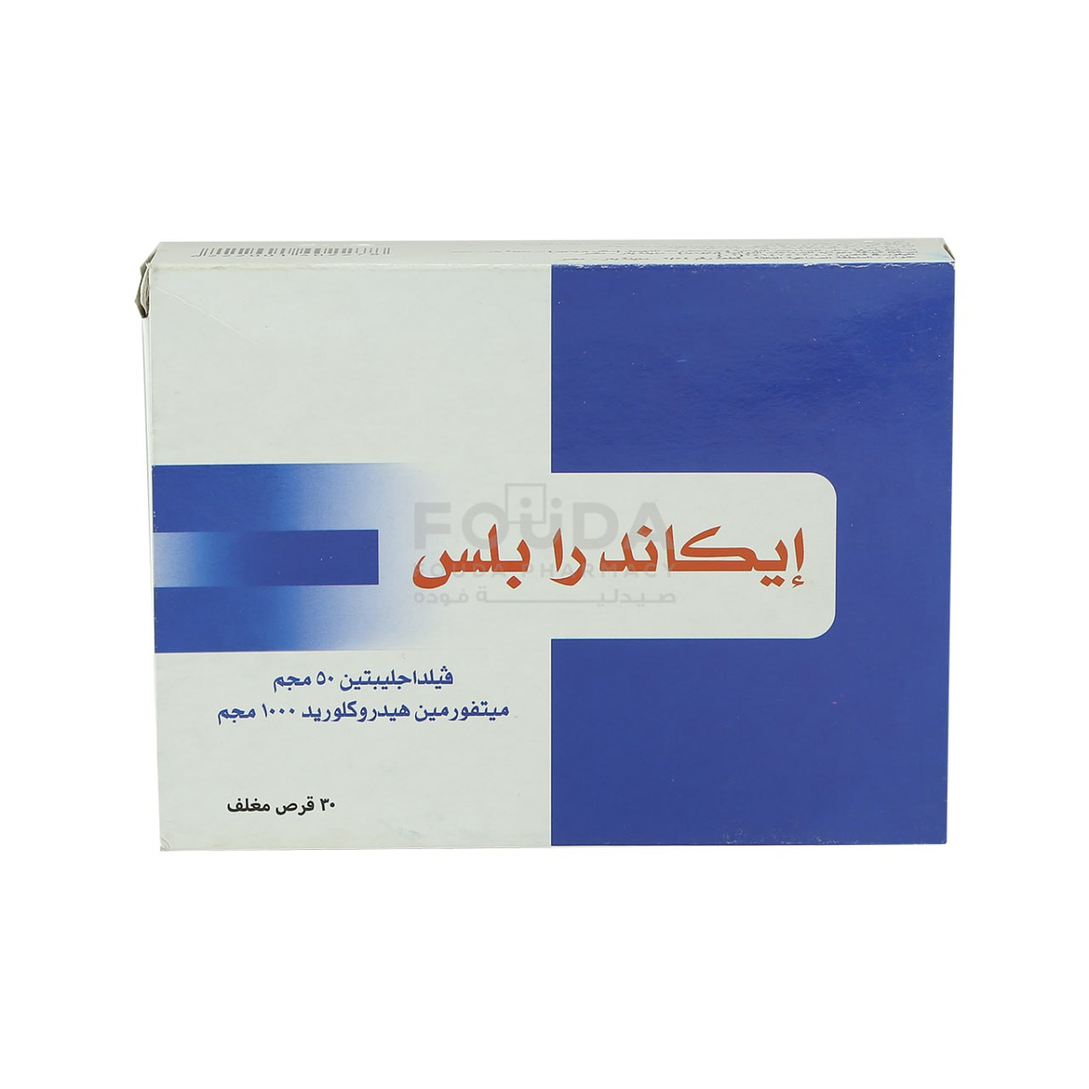Medicine: (119, 227, 961, 873)
